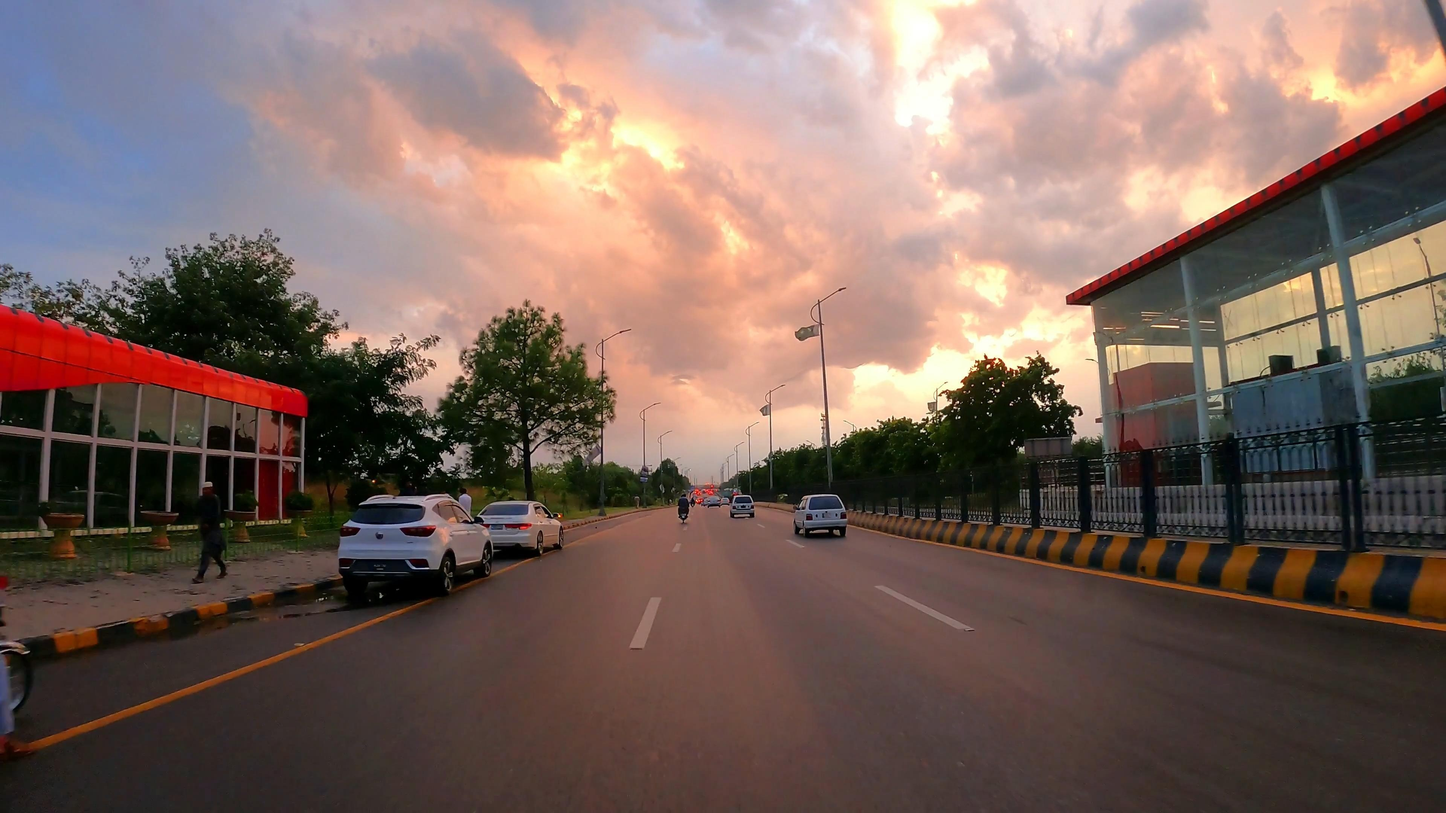dry: (0, 497, 1446, 813)
